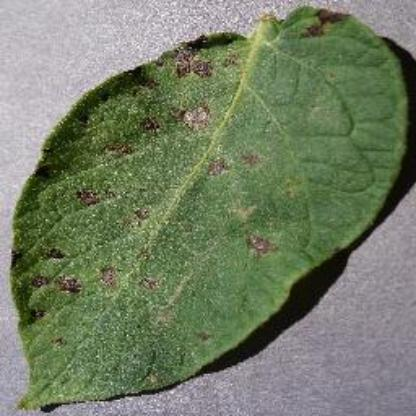Early-Blight: (10, 12, 398, 404)
